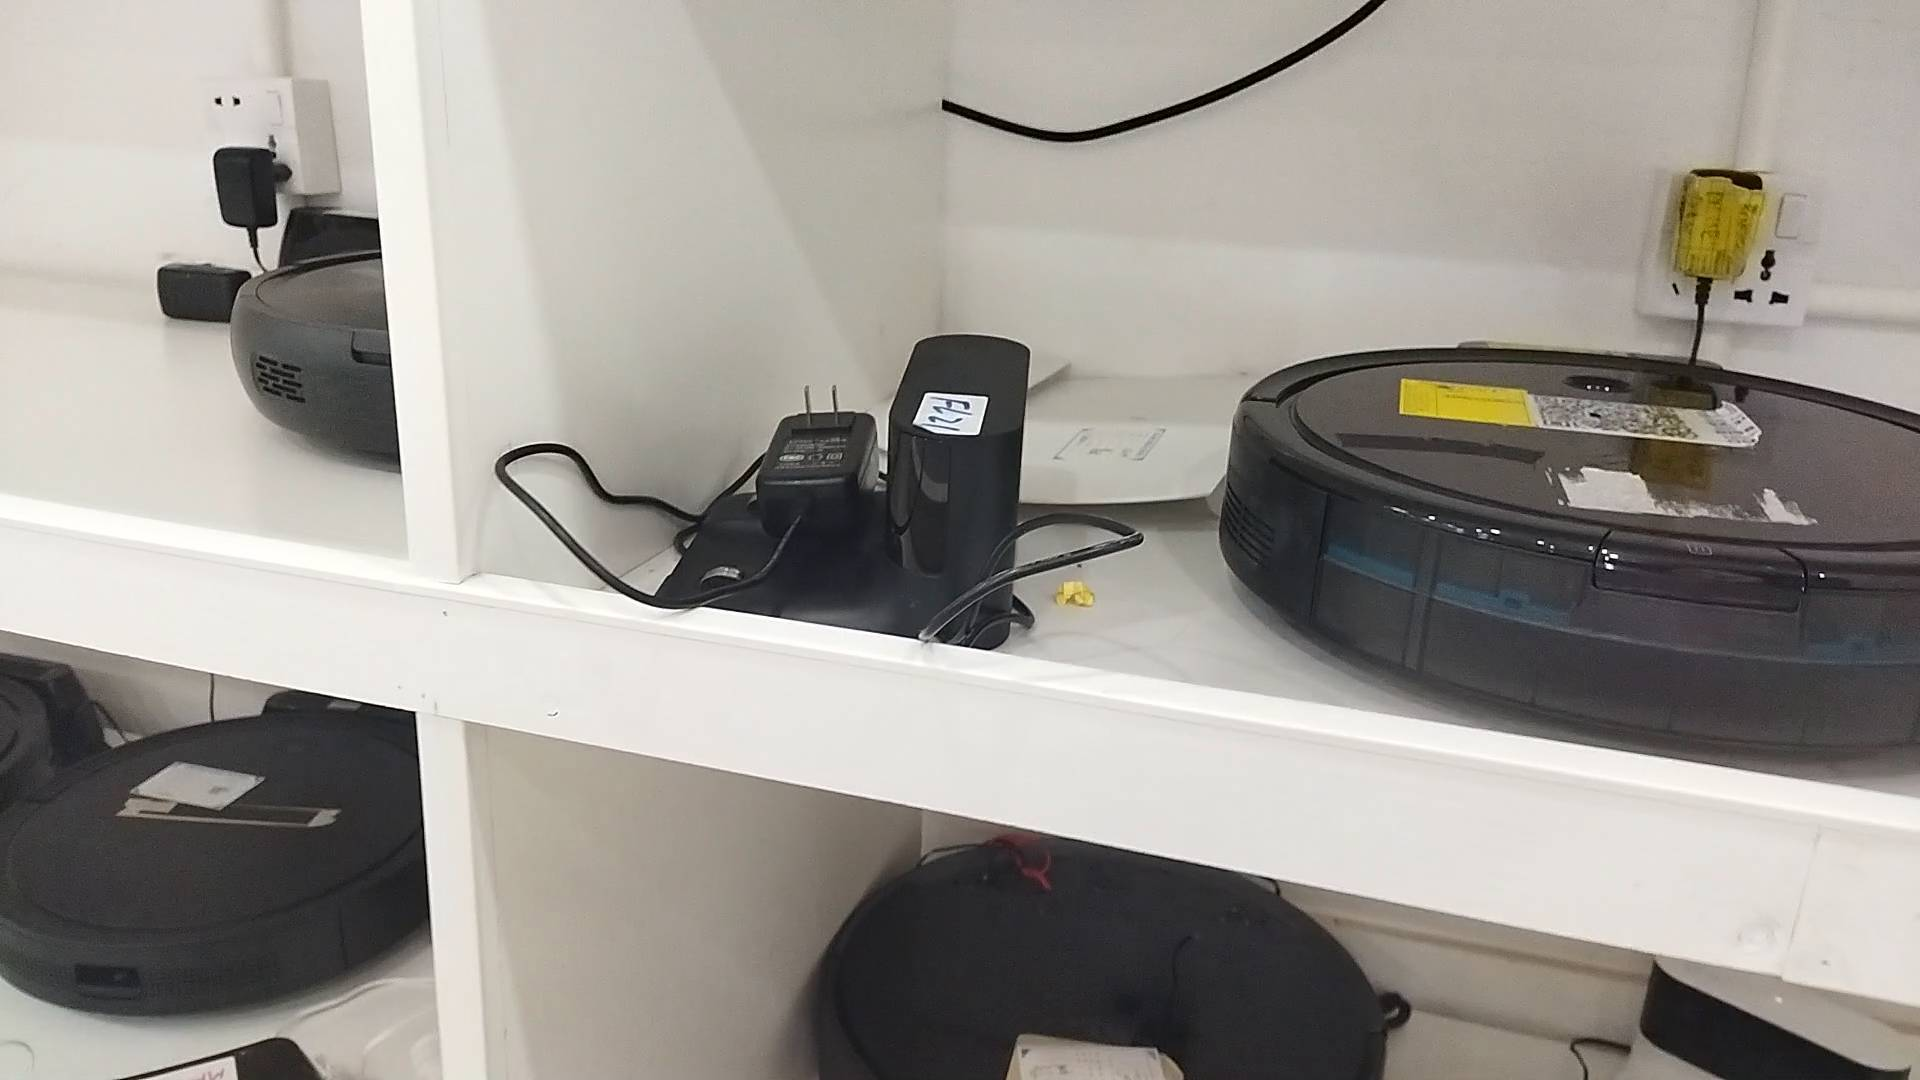recharge seat: (661, 334, 1039, 651)
